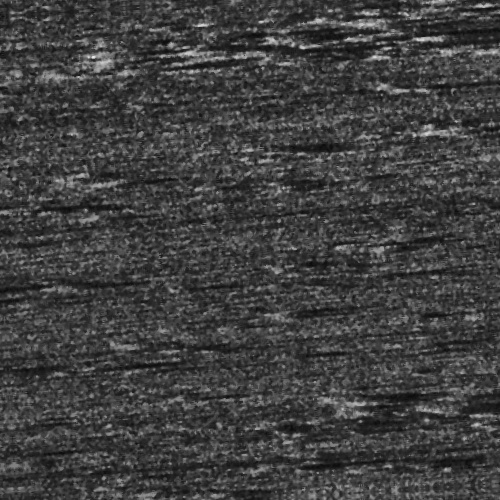object: (209, 39, 334, 64), (392, 409, 455, 428), (414, 43, 487, 50), (78, 167, 151, 174), (299, 398, 352, 405), (202, 465, 265, 470), (434, 424, 487, 429), (99, 41, 140, 46), (271, 308, 282, 313)
shadow: (271, 39, 392, 64), (0, 262, 143, 275), (424, 409, 500, 428), (234, 465, 405, 470), (325, 398, 415, 405), (115, 167, 195, 174), (276, 308, 363, 313), (450, 43, 500, 50), (120, 41, 176, 46), (460, 424, 500, 429), (0, 348, 39, 353)
